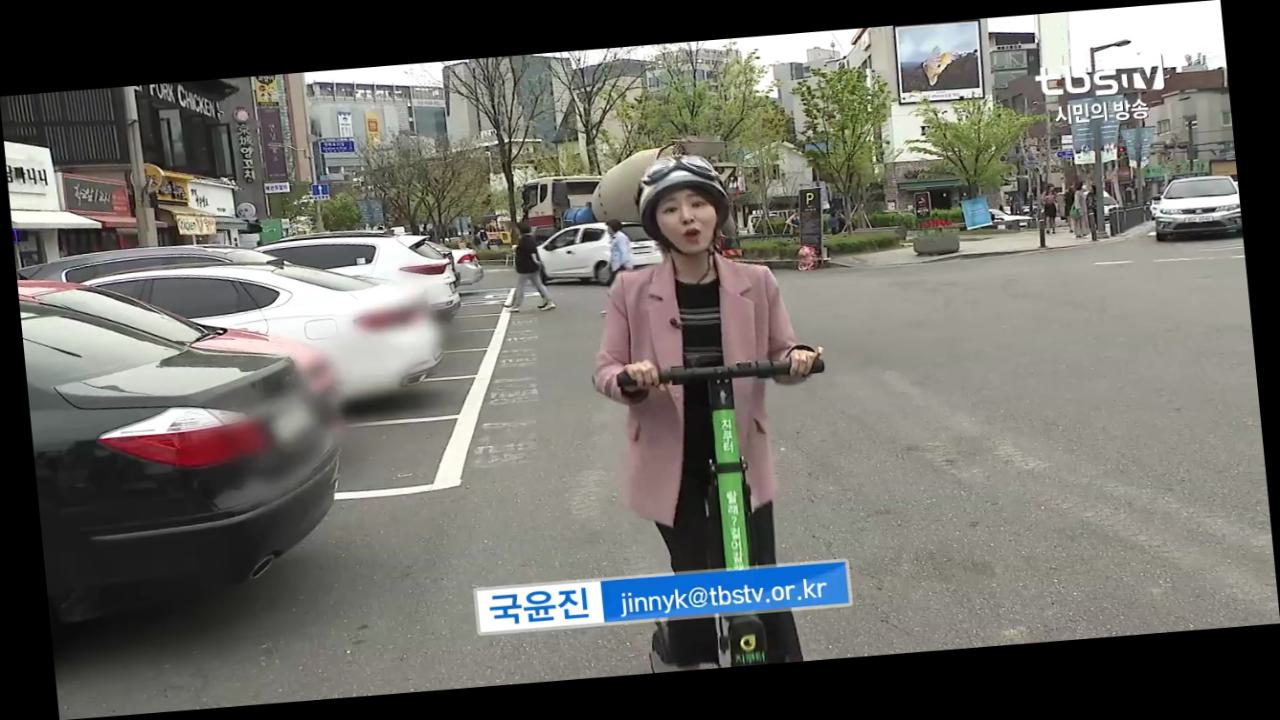helmet: (570, 141, 855, 676)
